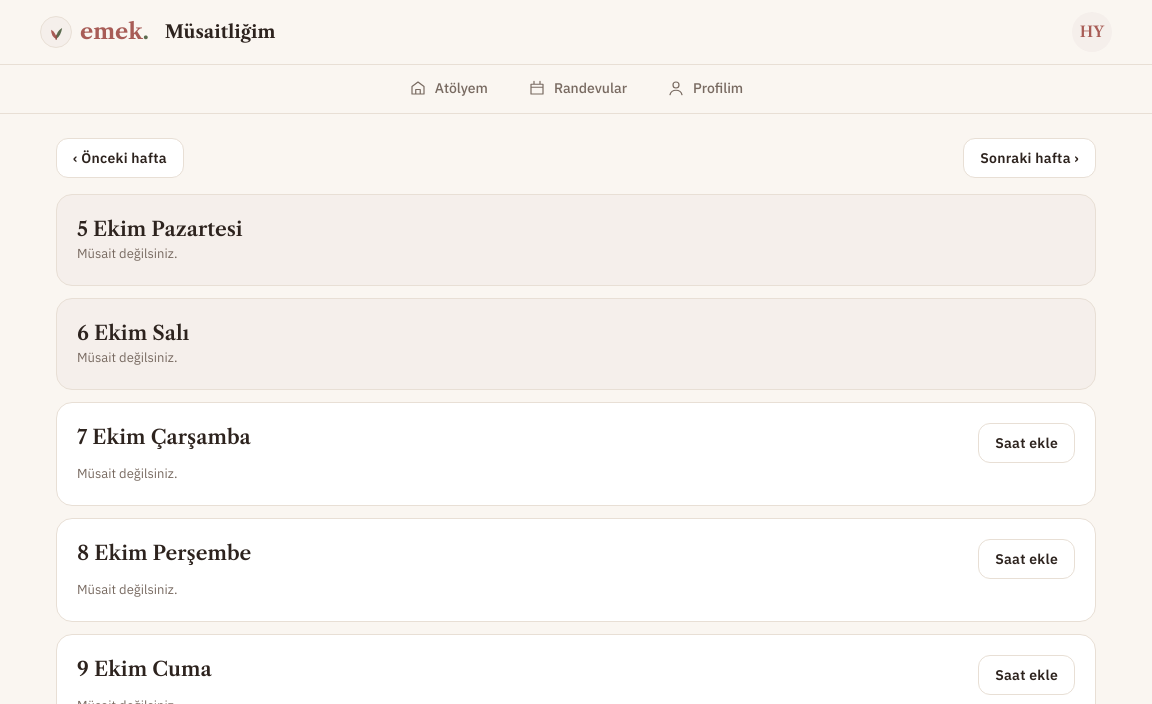
Test: Müsaitlik › İstanbul saatiyle girilen aralığı UTC ISO olarak gönderir; çakışma mesajını gösterir
Click the button "Saat ekle" in the row of "9 Ekim Cuma" at {"x": 1027, "y": 675}, box top-left (978, 655), bottom-right (1075, 695)
(page scrolled)
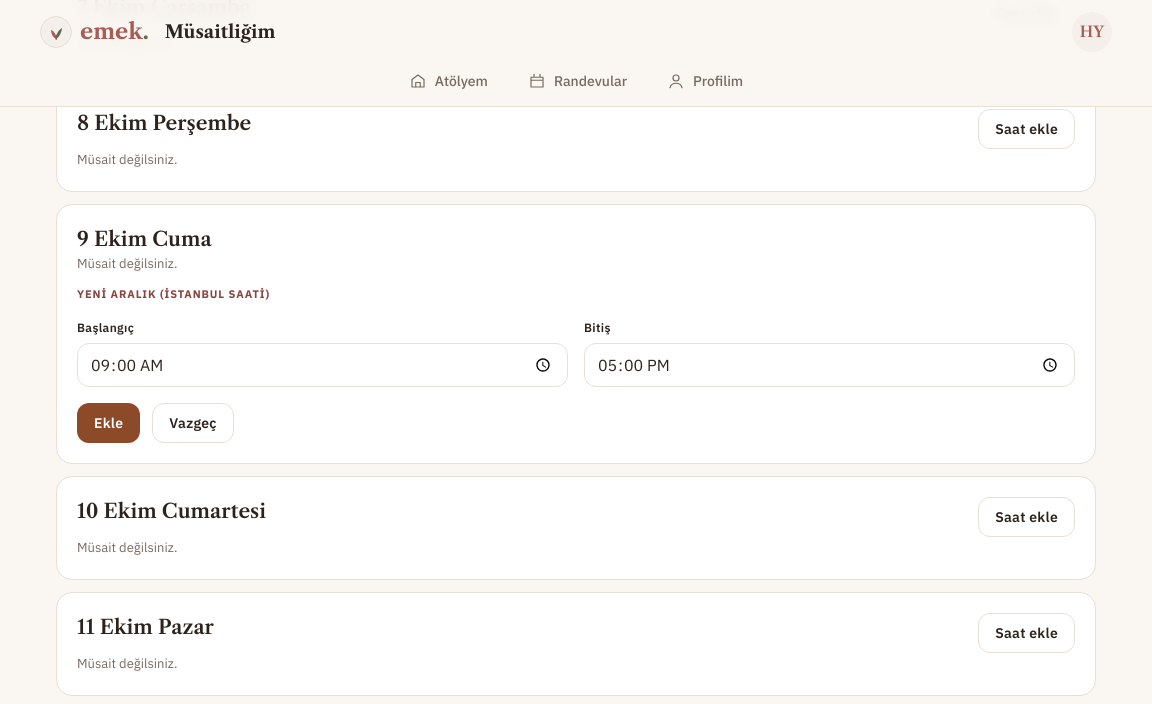
Click the button "Ekle" at {"x": 109, "y": 423}, box top-left (77, 403), bottom-right (140, 443)
(page scrolled)
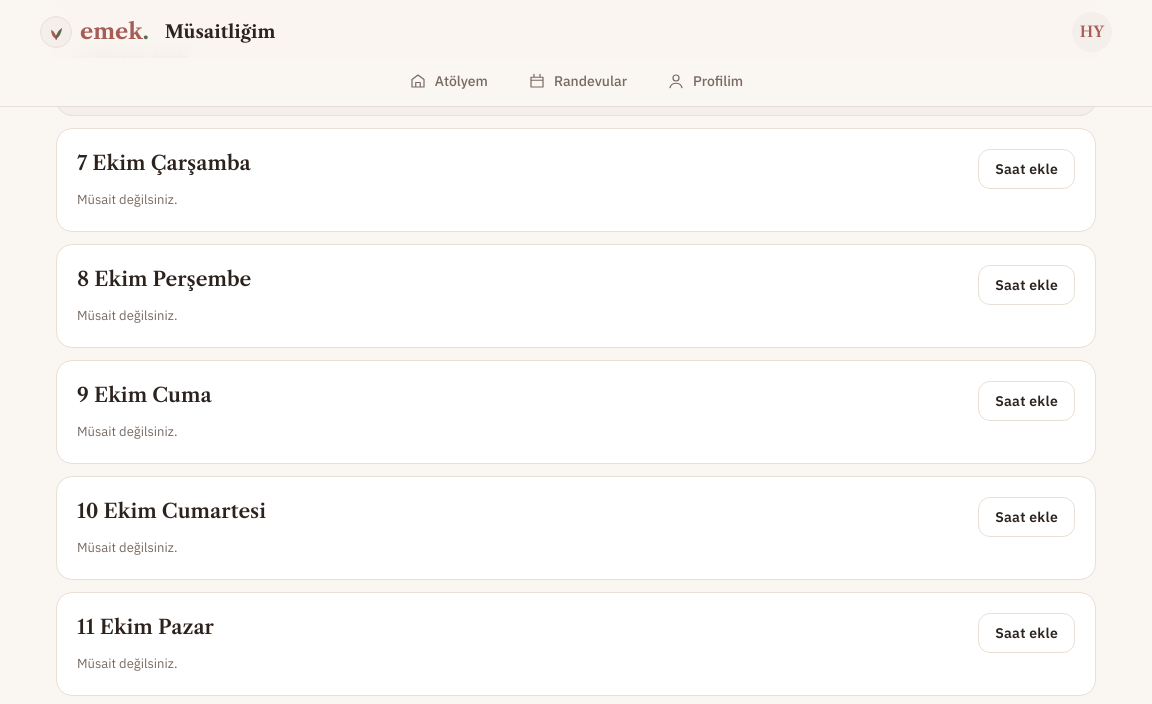
Click the button "Saat ekle" in the row of "9 Ekim Cuma" at {"x": 1027, "y": 401}, box top-left (978, 381), bottom-right (1075, 421)
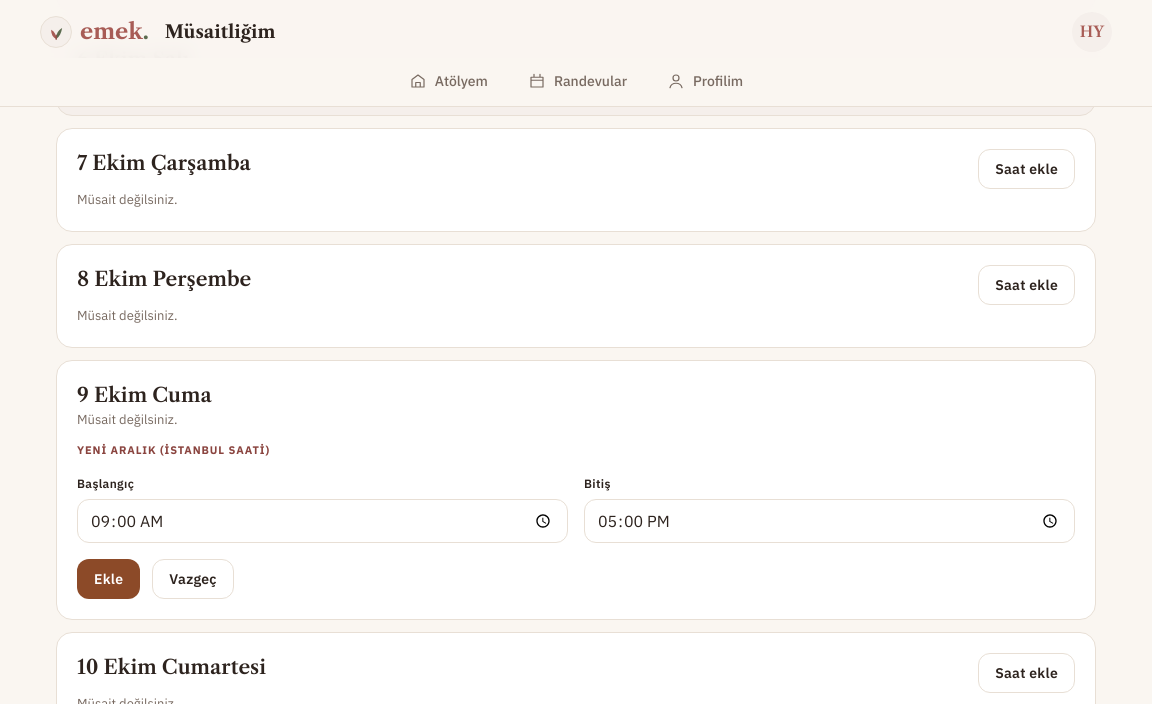
Click the button "Ekle" at {"x": 109, "y": 579}, box top-left (77, 559), bottom-right (140, 599)
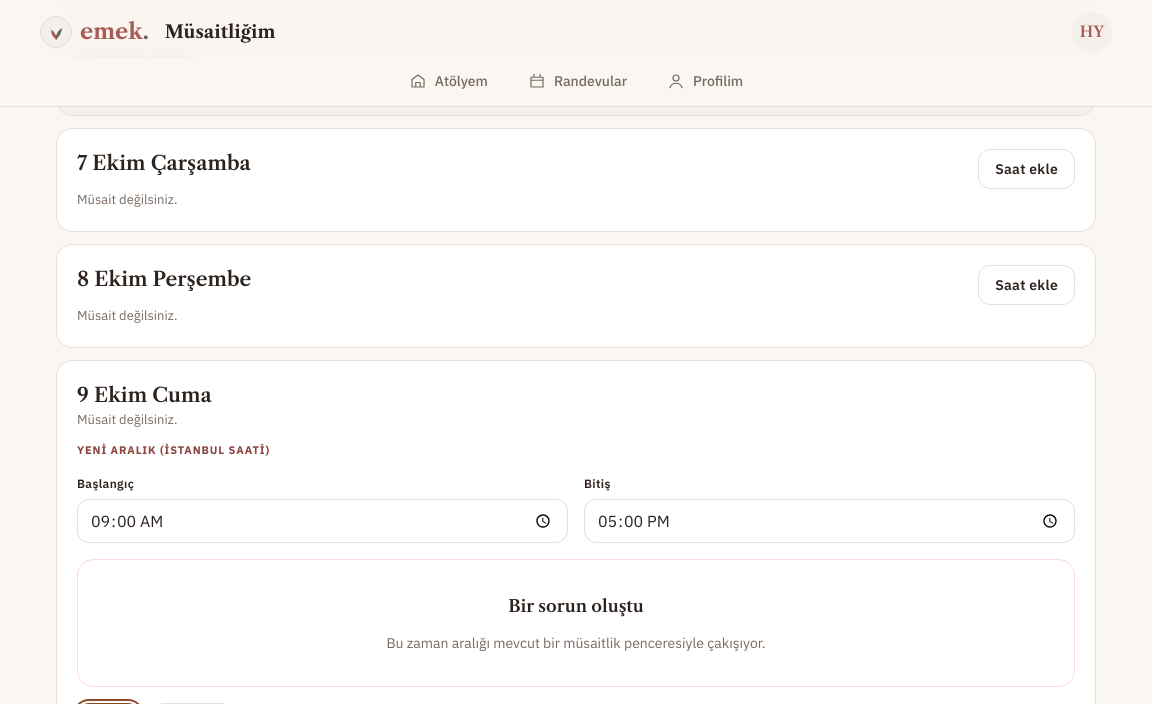
Expected: the text "Bu zaman aralığı mevcut bir müsaitlik penceresiyle çakışıyor." is shown, top-left (386, 632), bottom-right (766, 654)
